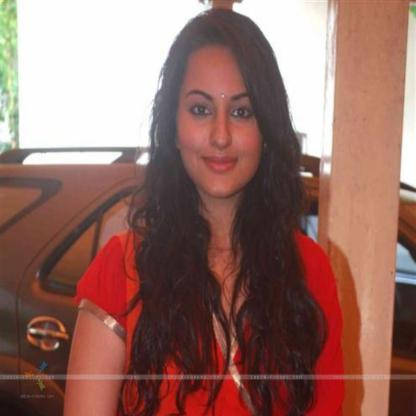long-hair: (122, 194, 310, 257)
